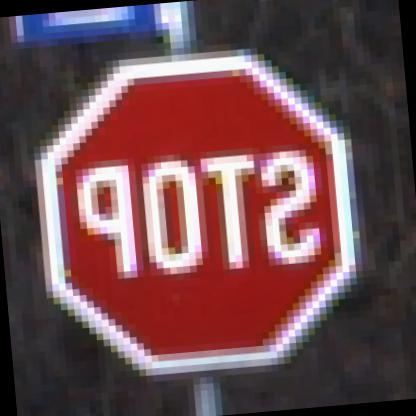stop: (11, 27, 396, 386)
